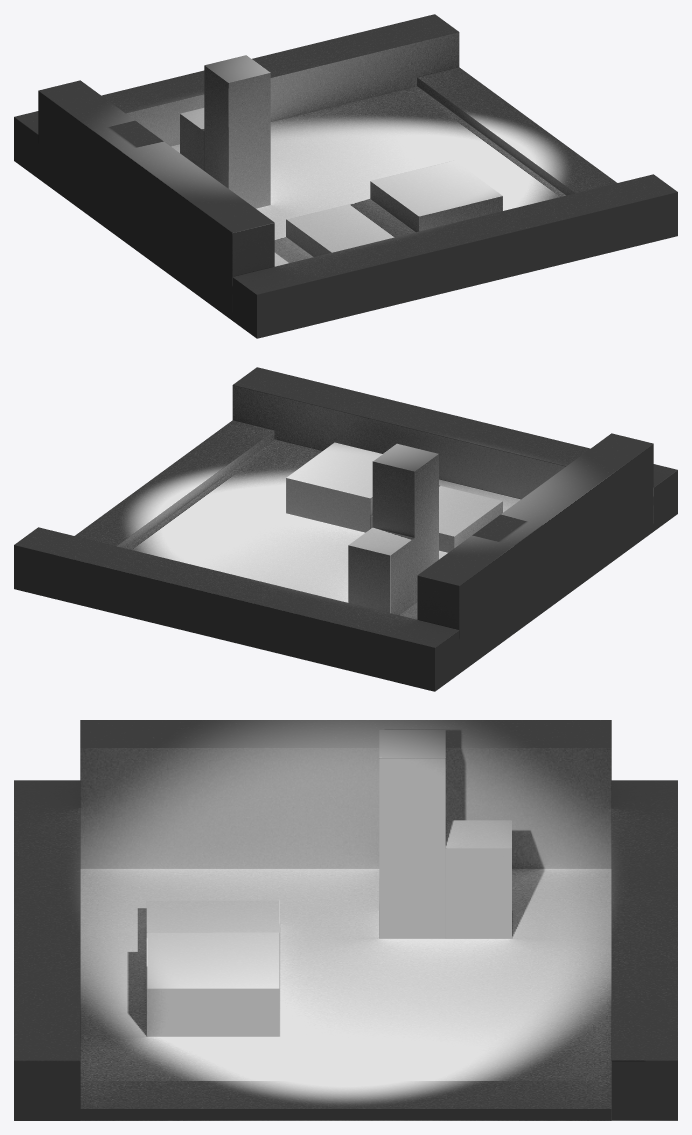
File: simple10x10.dae
3 renders of one model, top to bottom at view 1: azimuth 30°, elevation 25°; view 2: azimuth 150°, elevation 25°; view 3: azimuth 270°, elevation 25°, orthographic. The views are drawn at different scales.
Parts seen in each view (by area): view 1: simple_world1; view 2: simple_world1; view 3: simple_world1.
Part boxes in pixels (x1,y1,x2,y2): simple_world1: (14, 14, 677, 338); simple_world1: (14, 367, 677, 691); simple_world1: (14, 720, 677, 1120).
Size of the model in its own units: 10 by 10 by 3.
1 material, 1 textured.
